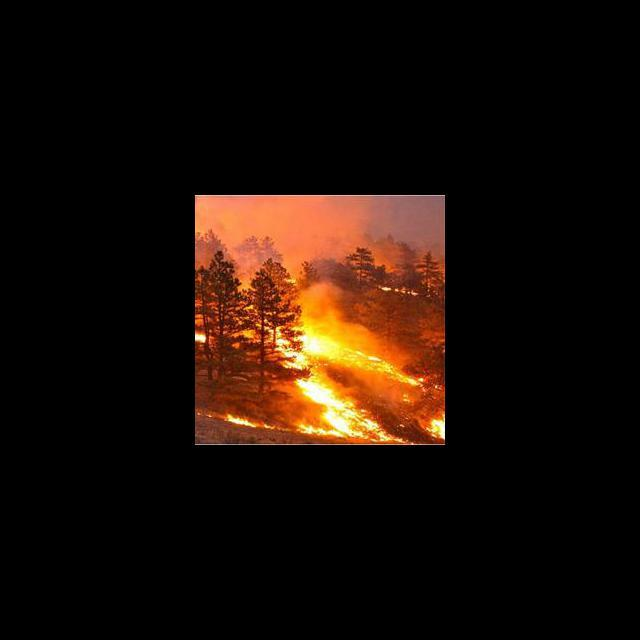Fire: (196, 314, 445, 442)
